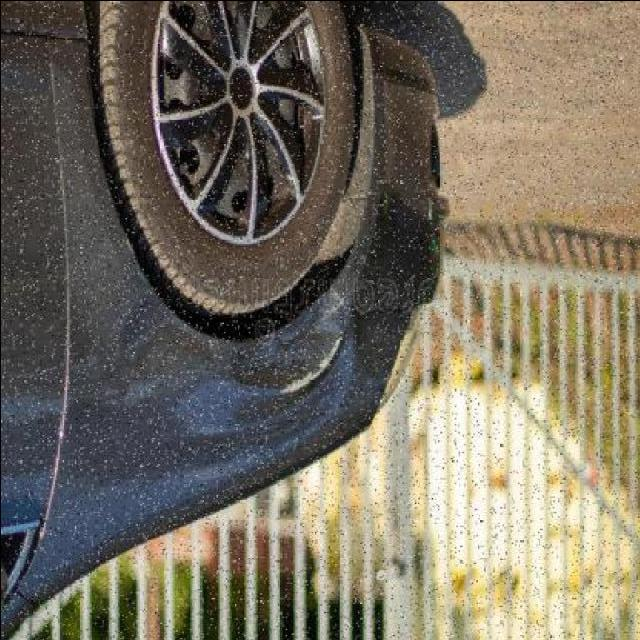fender-dent: (66, 233, 376, 483)
